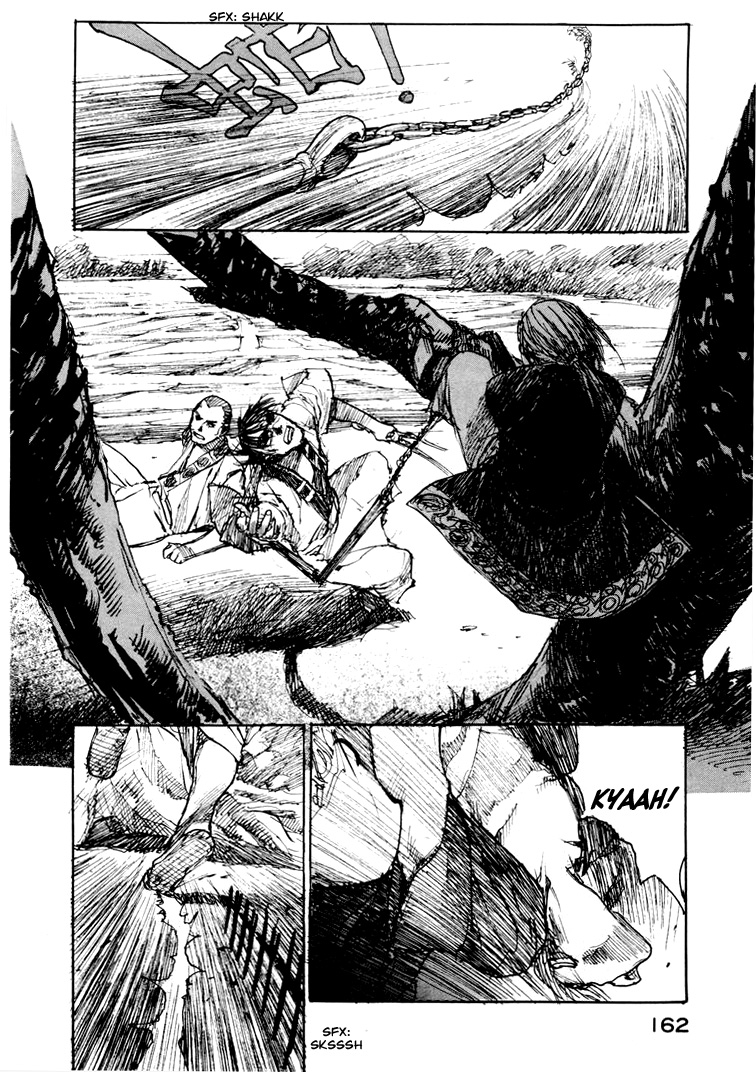Baloon: (565, 726, 691, 914)
Vignetta: (4, 83, 755, 793), (75, 19, 693, 236), (311, 727, 691, 1003), (73, 726, 307, 1072)
